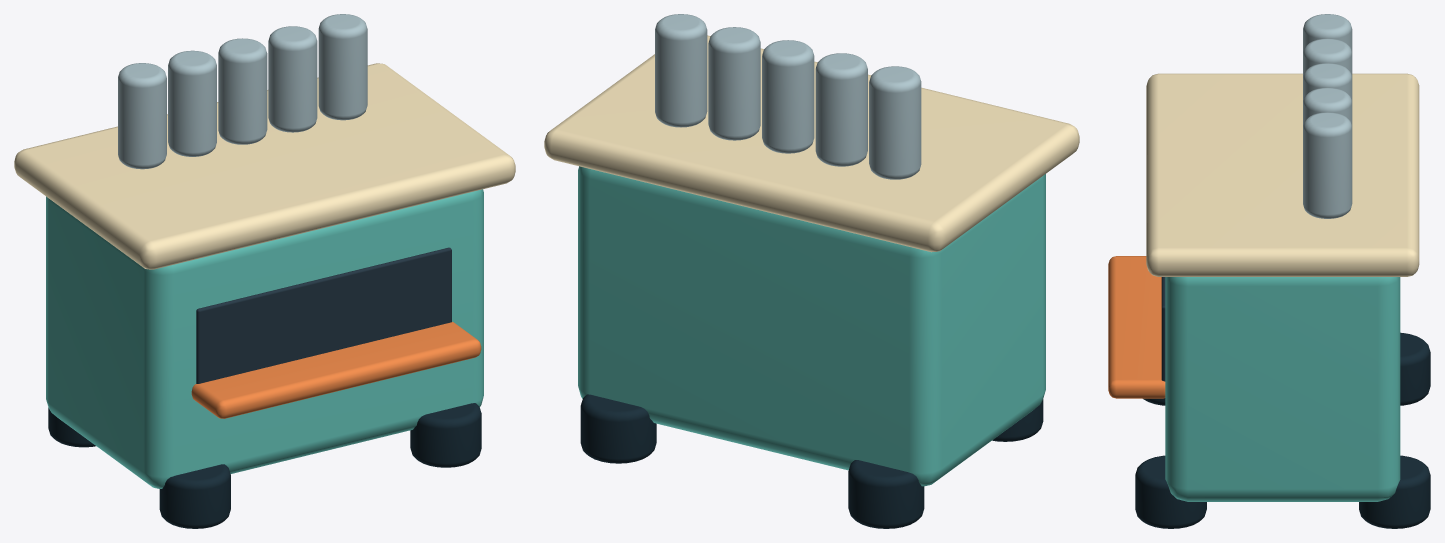
The model's file is can_supply.glb.
The picture shows the model from 3 angles, left to right: view 1: azimuth 30°, elevation 25°; view 2: azimuth 150°, elevation 25°; view 3: azimuth 270°, elevation 25°; orthographic projection. The views are drawn at different scales.
Visible parts, largest first — view 1: Cabinet, Top, Slot, Lip, Can stack.002, Can stack.003, Can stack.004, Can stack, Can stack.001, Rubber foot.001, Rubber foot.003, Rubber foot; view 2: Cabinet, Top, Can stack.002, Can stack, Can stack.001, Can stack.003, Can stack.004, Rubber foot, Rubber foot.002, Rubber foot.001; view 3: Cabinet, Top, Lip, Can stack.004, Rubber foot.002, Rubber foot.003, Rubber foot, Can stack.001, Can stack.003, Can stack, Can stack.002, Slot.
Part boxes in pixels (<box>): Cabinet: <box>46,189,483,488</box>; Top: <box>14,63,515,269</box>; Slot: <box>196,247,451,383</box>; Lip: <box>191,322,481,418</box>; Can stack.002: <box>218,38,267,144</box>; Can stack.003: <box>268,26,317,132</box>; Can stack.004: <box>318,14,367,120</box>; Can stack: <box>118,63,166,169</box>; Can stack.001: <box>168,50,216,156</box>; Rubber foot.001: <box>159,464,230,528</box>; Rubber foot.003: <box>410,403,481,467</box>; Rubber foot: <box>48,407,95,447</box>; Cabinet: <box>578,166,1045,486</box>; Top: <box>544,35,1079,252</box>; Can stack.002: <box>762,40,814,153</box>; Can stack: <box>869,66,921,179</box>; Can stack.001: <box>815,53,867,166</box>; Can stack.003: <box>708,27,760,140</box>; Can stack.004: <box>655,14,707,127</box>; Rubber foot: <box>848,460,924,528</box>; Rubber foot.002: <box>580,394,656,463</box>; Rubber foot.001: <box>992,399,1043,441</box>; Cabinet: <box>1165,277,1400,501</box>; Top: <box>1146,73,1419,276</box>; Lip: <box>1108,256,1165,398</box>; Can stack.004: <box>1303,112,1352,218</box>; Rubber foot.002: <box>1359,455,1430,528</box>; Rubber foot.003: <box>1135,455,1206,528</box>; Rubber foot: <box>1400,332,1430,405</box>; Can stack.001: <box>1303,38,1352,77</box>; Can stack.003: <box>1303,87,1352,126</box>; Can stack: <box>1303,14,1352,52</box>; Can stack.002: <box>1303,63,1352,101</box>; Slot: <box>1161,277,1165,381</box>.
Bounding box in the file's own units: 1.94 × 1.89 × 1.44.
